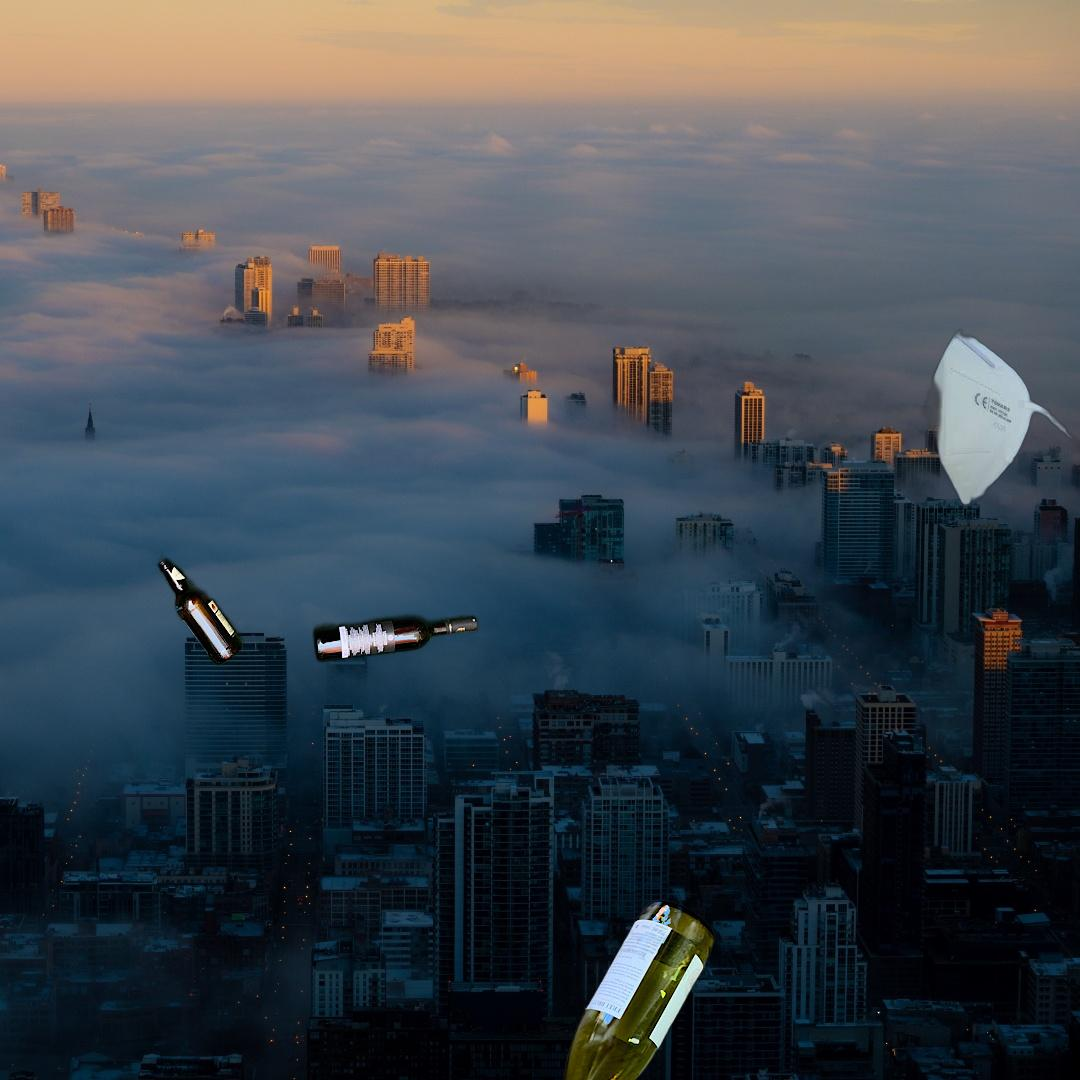glass: (4, 551, 516, 987), (513, 894, 720, 1080)
trash: (877, 327, 1080, 512)
